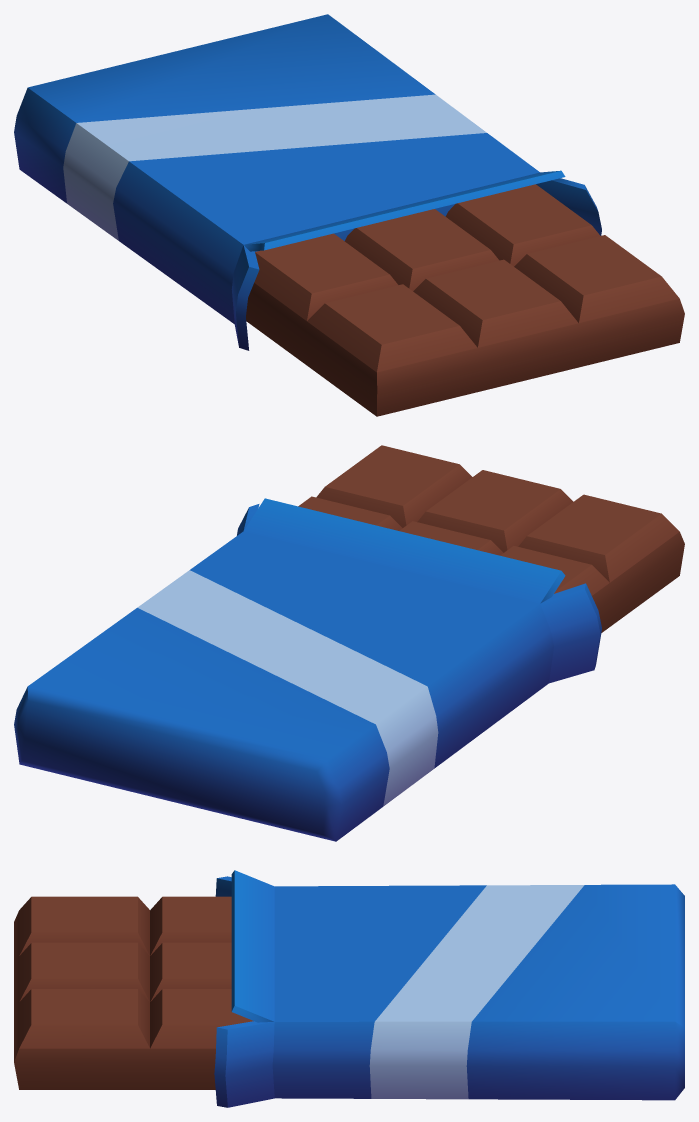
The model's file is chocolate_003.fbx.
3 renders of one model, top to bottom at view 1: azimuth 30°, elevation 25°; view 2: azimuth 150°, elevation 25°; view 3: azimuth 270°, elevation 25°, orthographic. The views are drawn at different scales.
Parts seen in each view (by area): view 1: chocolate_003; view 2: chocolate_003; view 3: chocolate_003.
Boxes of the visible parts, left/top/right/bottom form: chocolate_003: left=14, top=14, right=684, bottom=416; chocolate_003: left=14, top=445, right=684, bottom=841; chocolate_003: left=14, top=870, right=684, bottom=1107.
Bounding box in the file's own units: 6.02 × 10.25 × 1.52.
